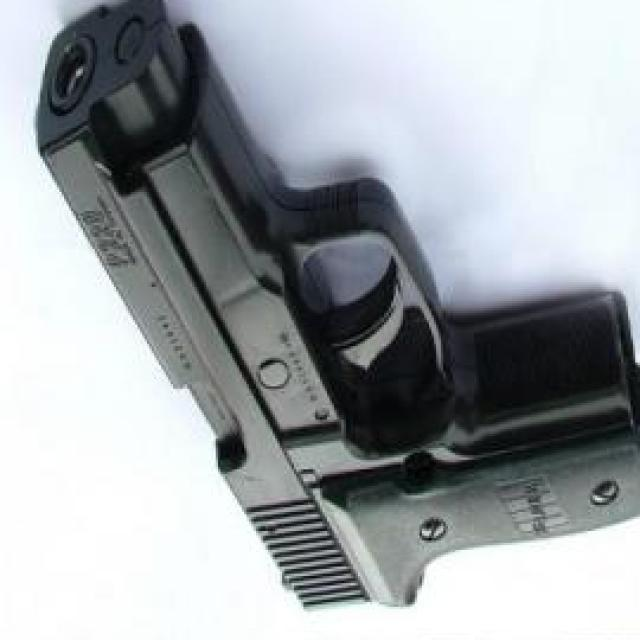pistol: (28, 0, 640, 612)
